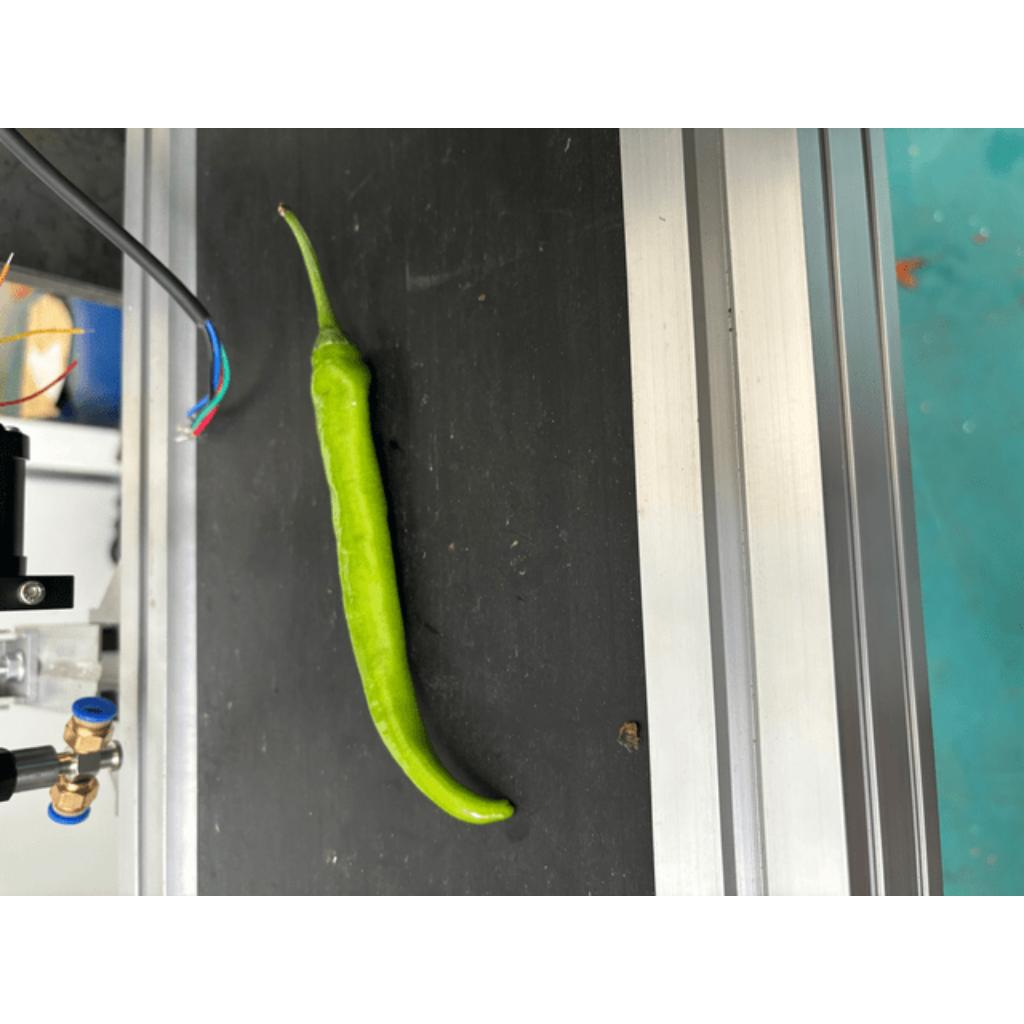chili: (306, 323, 519, 829)
